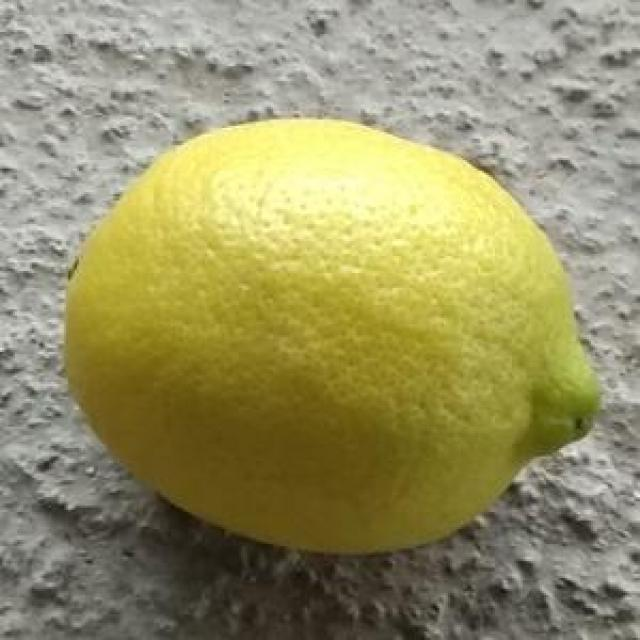lemon: (60, 115, 606, 557)
